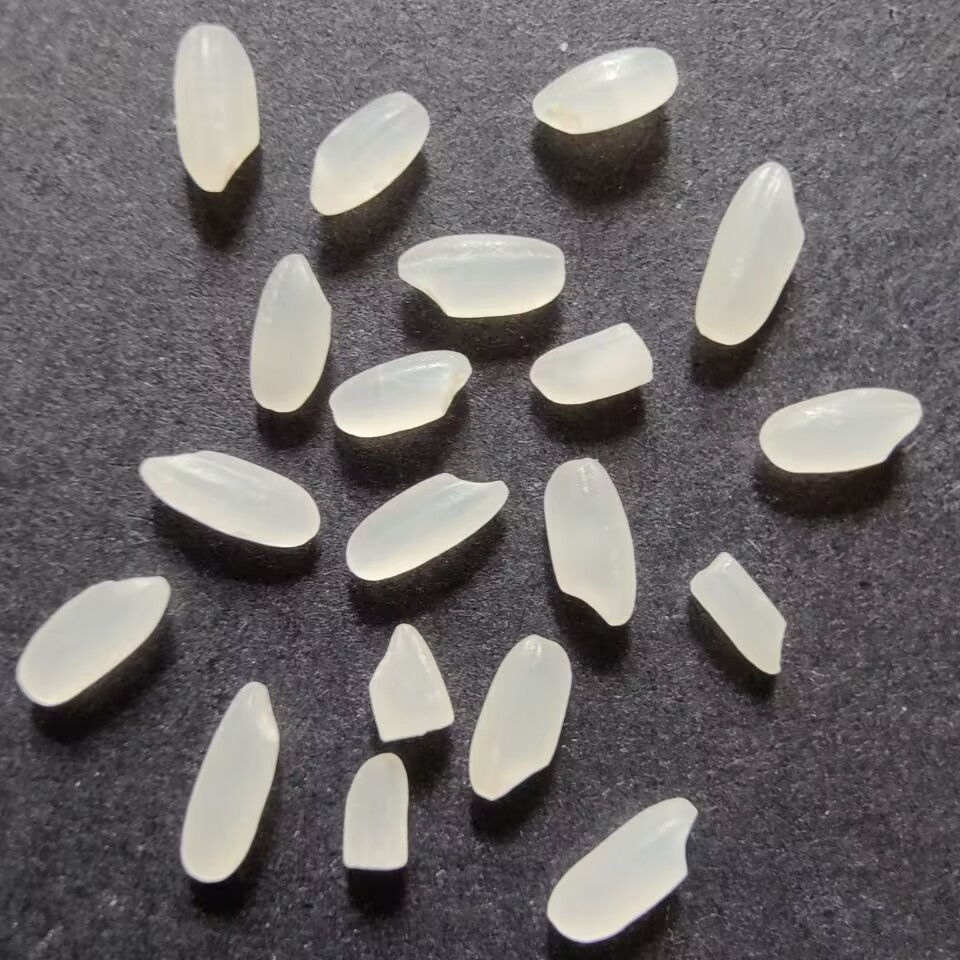broken: (686, 549, 792, 682), (364, 617, 458, 748), (525, 316, 656, 407), (341, 748, 416, 877)
rice: (539, 795, 702, 946), (173, 678, 285, 886), (691, 155, 809, 349), (13, 573, 176, 708), (133, 447, 326, 555), (342, 467, 514, 583), (464, 631, 573, 803), (539, 453, 642, 629), (168, 17, 266, 199), (753, 381, 927, 480), (392, 229, 573, 323), (308, 88, 434, 217), (245, 249, 335, 417), (525, 42, 682, 137), (323, 346, 476, 441)
